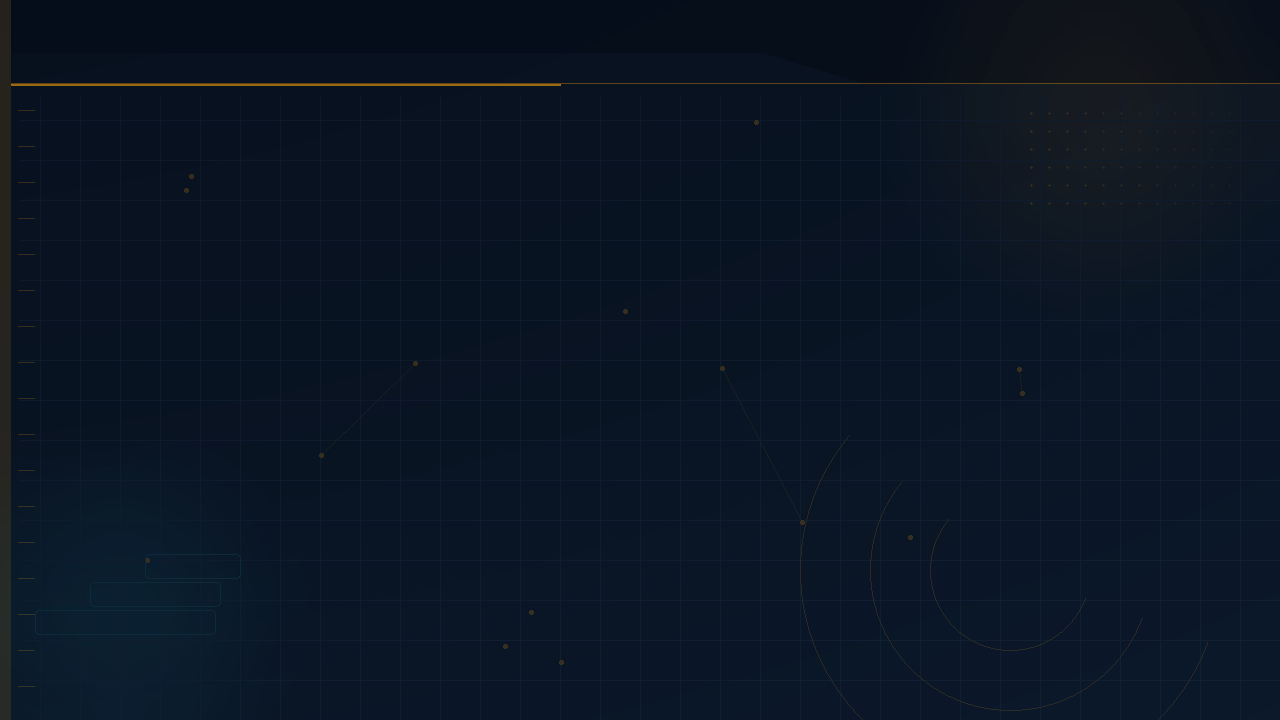

What the dashboard file says about the page in this screenshot:
{"tool":"powerbi","page":{"name":"Architecture & Methodology","canvas":[1280,720],"ordinal":4},"visuals":[{"type":"textbox","box":[24.6,0,328.8,52.9],"z":10},{"type":"textbox","box":[24.6,30.2,514,73.7],"z":20},{"type":"textbox","box":[24.6,75.6,769.1,56.7],"z":30},{"type":"textbox","box":[24,132,385,210],"z":100},{"type":"textbox","box":[432,132,385,210],"z":110},{"type":"textbox","box":[840,132,410,210],"z":120},{"type":"textbox","box":[24,365,385,210],"z":130},{"type":"textbox","box":[432,365,385,210],"z":140},{"type":"textbox","box":[840,365,410,210],"z":150},{"type":"textbox","box":[24.6,650.1,436.5,52.9],"z":9000},{"type":"textbox","box":[999.7,684.1,249.5,35.9],"z":9010}]}

Visuals, with their boxes in screenshot pixels (x1, y1, x2, y2), scaled from the page's 1280x720 canvas onto the 1280x720 screenshot:
textbox: pyautogui.locateOnScreen(25, 0, 353, 53)
textbox: pyautogui.locateOnScreen(25, 30, 539, 104)
textbox: pyautogui.locateOnScreen(25, 76, 794, 132)
textbox: pyautogui.locateOnScreen(24, 132, 409, 342)
textbox: pyautogui.locateOnScreen(432, 132, 817, 342)
textbox: pyautogui.locateOnScreen(840, 132, 1250, 342)
textbox: pyautogui.locateOnScreen(24, 365, 409, 575)
textbox: pyautogui.locateOnScreen(432, 365, 817, 575)
textbox: pyautogui.locateOnScreen(840, 365, 1250, 575)
textbox: pyautogui.locateOnScreen(25, 650, 461, 703)
textbox: pyautogui.locateOnScreen(1000, 684, 1249, 719)
